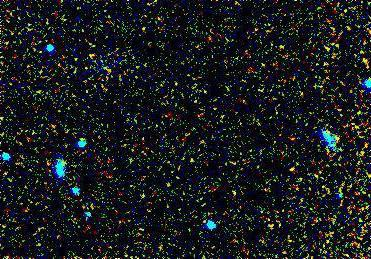star: (278, 154, 308, 184)
